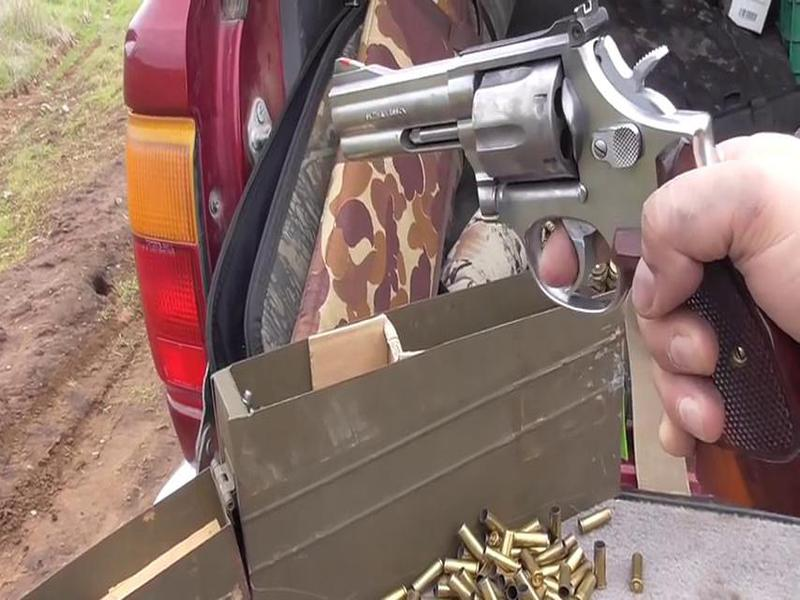Revolver: (301, 28, 800, 351)
